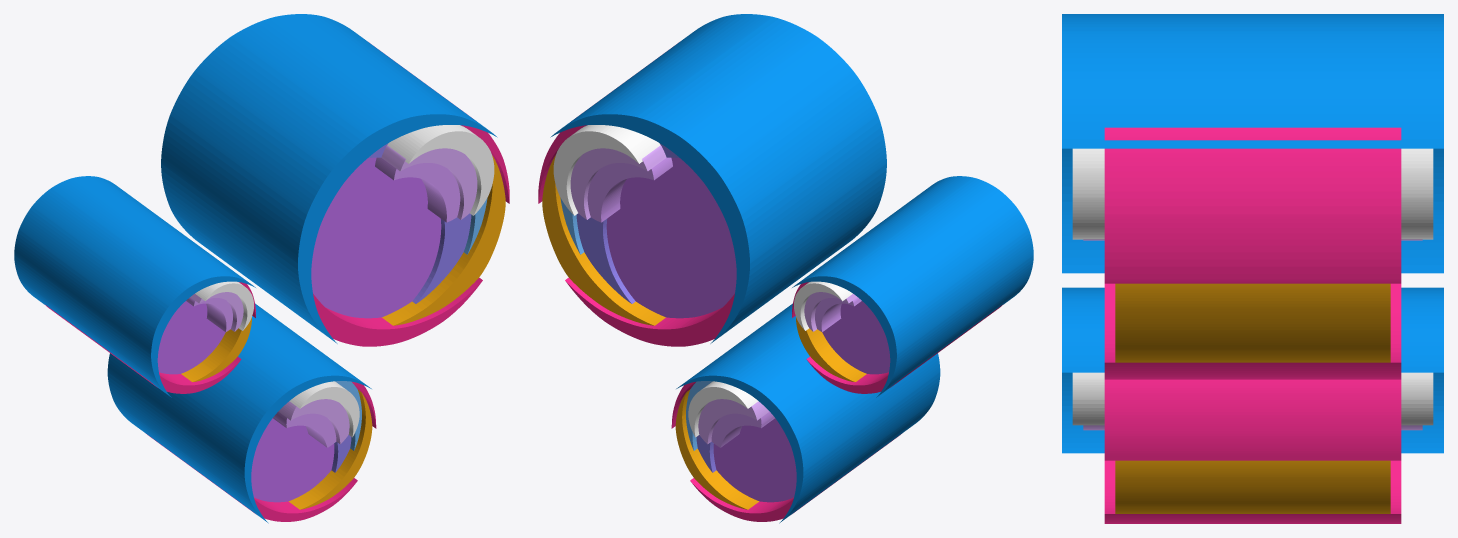
Rendered from U+1FAE7.obj.
The picture shows the model from 3 angles, left to right: view 1: azimuth 30°, elevation 25°; view 2: azimuth 150°, elevation 25°; view 3: azimuth 270°, elevation 25°; orthographic projection. The views are drawn at different scales.
Visible parts, largest first — view 1: U+1FAE7_layer08_obj00, U+1FAE7_layer00_obj00, U+1FAE7_layer03_obj00, U+1FAE7_layer04_obj00, U+1FAE7_layer07_obj00, U+1FAE7_layer05_obj00, U+1FAE7_layer06_obj00, U+1FAE7_layer01_obj00, U+1FAE7_layer02_obj00; view 2: U+1FAE7_layer08_obj00, U+1FAE7_layer00_obj00, U+1FAE7_layer03_obj00, U+1FAE7_layer04_obj00, U+1FAE7_layer07_obj00, U+1FAE7_layer05_obj00, U+1FAE7_layer06_obj00, U+1FAE7_layer01_obj00, U+1FAE7_layer02_obj00; view 3: U+1FAE7_layer04_obj00, U+1FAE7_layer08_obj00, U+1FAE7_layer03_obj00, U+1FAE7_layer07_obj00.
Boxes of the visible parts, x1,y1,x2,y2 form: U+1FAE7_layer08_obj00: (14, 14, 497, 523); U+1FAE7_layer00_obj00: (157, 157, 441, 502); U+1FAE7_layer03_obj00: (181, 155, 505, 509); U+1FAE7_layer04_obj00: (45, 42, 509, 521); U+1FAE7_layer07_obj00: (195, 125, 494, 437); U+1FAE7_layer05_obj00: (186, 157, 460, 447); U+1FAE7_layer06_obj00: (190, 145, 477, 444); U+1FAE7_layer01_obj00: (331, 143, 471, 472); U+1FAE7_layer02_obj00: (335, 197, 487, 450); U+1FAE7_layer08_obj00: (550, 14, 1033, 523); U+1FAE7_layer00_obj00: (606, 157, 890, 502); U+1FAE7_layer03_obj00: (542, 155, 866, 509); U+1FAE7_layer04_obj00: (538, 42, 1002, 521); U+1FAE7_layer07_obj00: (553, 125, 852, 437); U+1FAE7_layer05_obj00: (587, 157, 861, 447); U+1FAE7_layer06_obj00: (570, 145, 857, 444); U+1FAE7_layer01_obj00: (576, 143, 716, 472); U+1FAE7_layer02_obj00: (560, 197, 712, 450); U+1FAE7_layer04_obj00: (1104, 127, 1401, 523); U+1FAE7_layer08_obj00: (1062, 14, 1443, 453); U+1FAE7_layer03_obj00: (1115, 283, 1390, 513); U+1FAE7_layer07_obj00: (1072, 148, 1433, 425).
Bounding box in the file's own units: 0.5678 × 0.5677 × 0.36.
